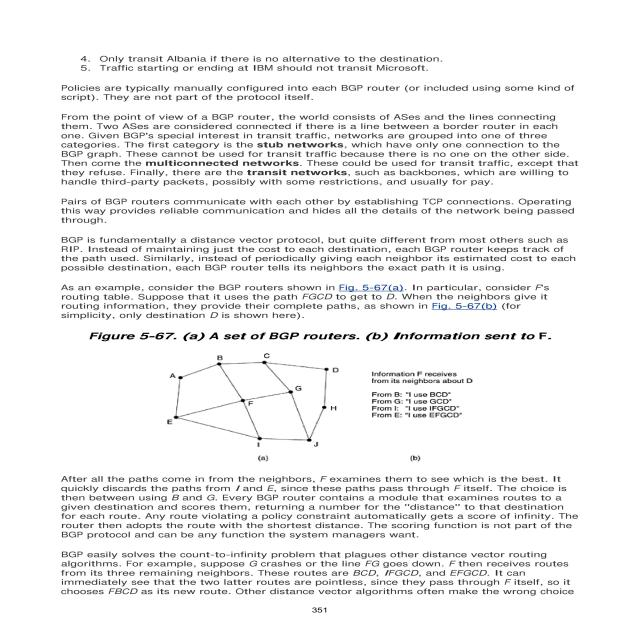diagram: (67, 325, 569, 465)
